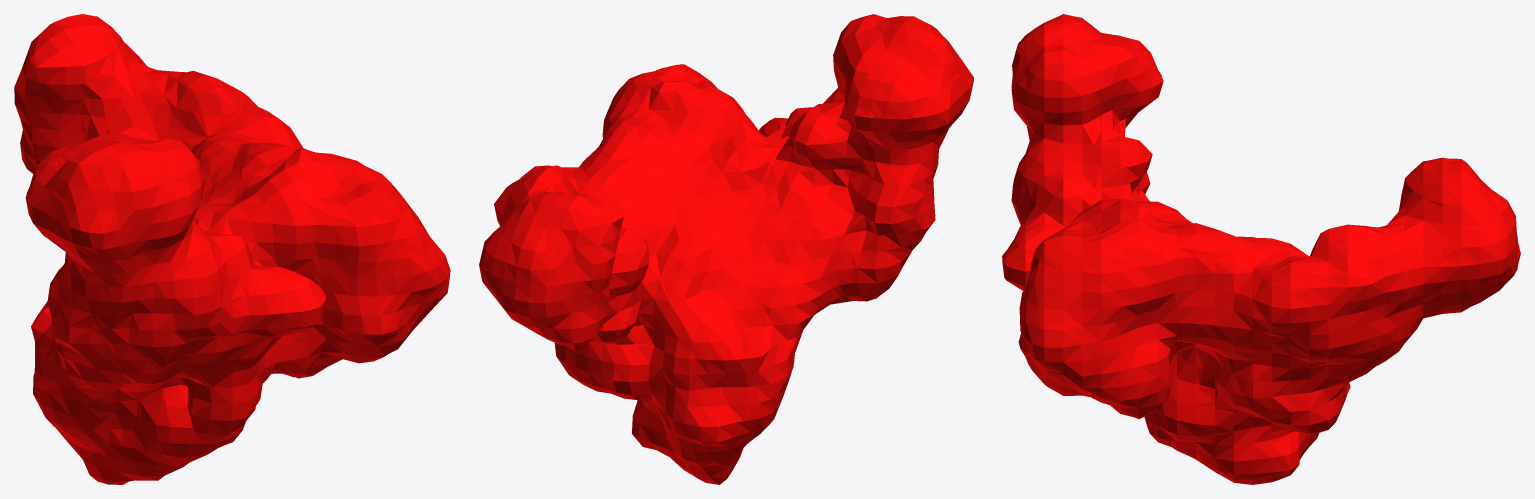
Rendered from argH_coarse.dae.
3 renders of one model, left to right at view 1: azimuth 30°, elevation 25°; view 2: azimuth 150°, elevation 25°; view 3: azimuth 270°, elevation 25°, orthographic. The views are drawn at different scales.
Visible parts, largest first — view 1: argH; view 2: argH; view 3: argH.
Part boxes in pixels (x1,y1,x2,y2): argH: [14, 14, 450, 484]; argH: [479, 14, 973, 484]; argH: [1002, 14, 1520, 484].
Size of the model in its own units: 86.25 by 94.88 by 109.
